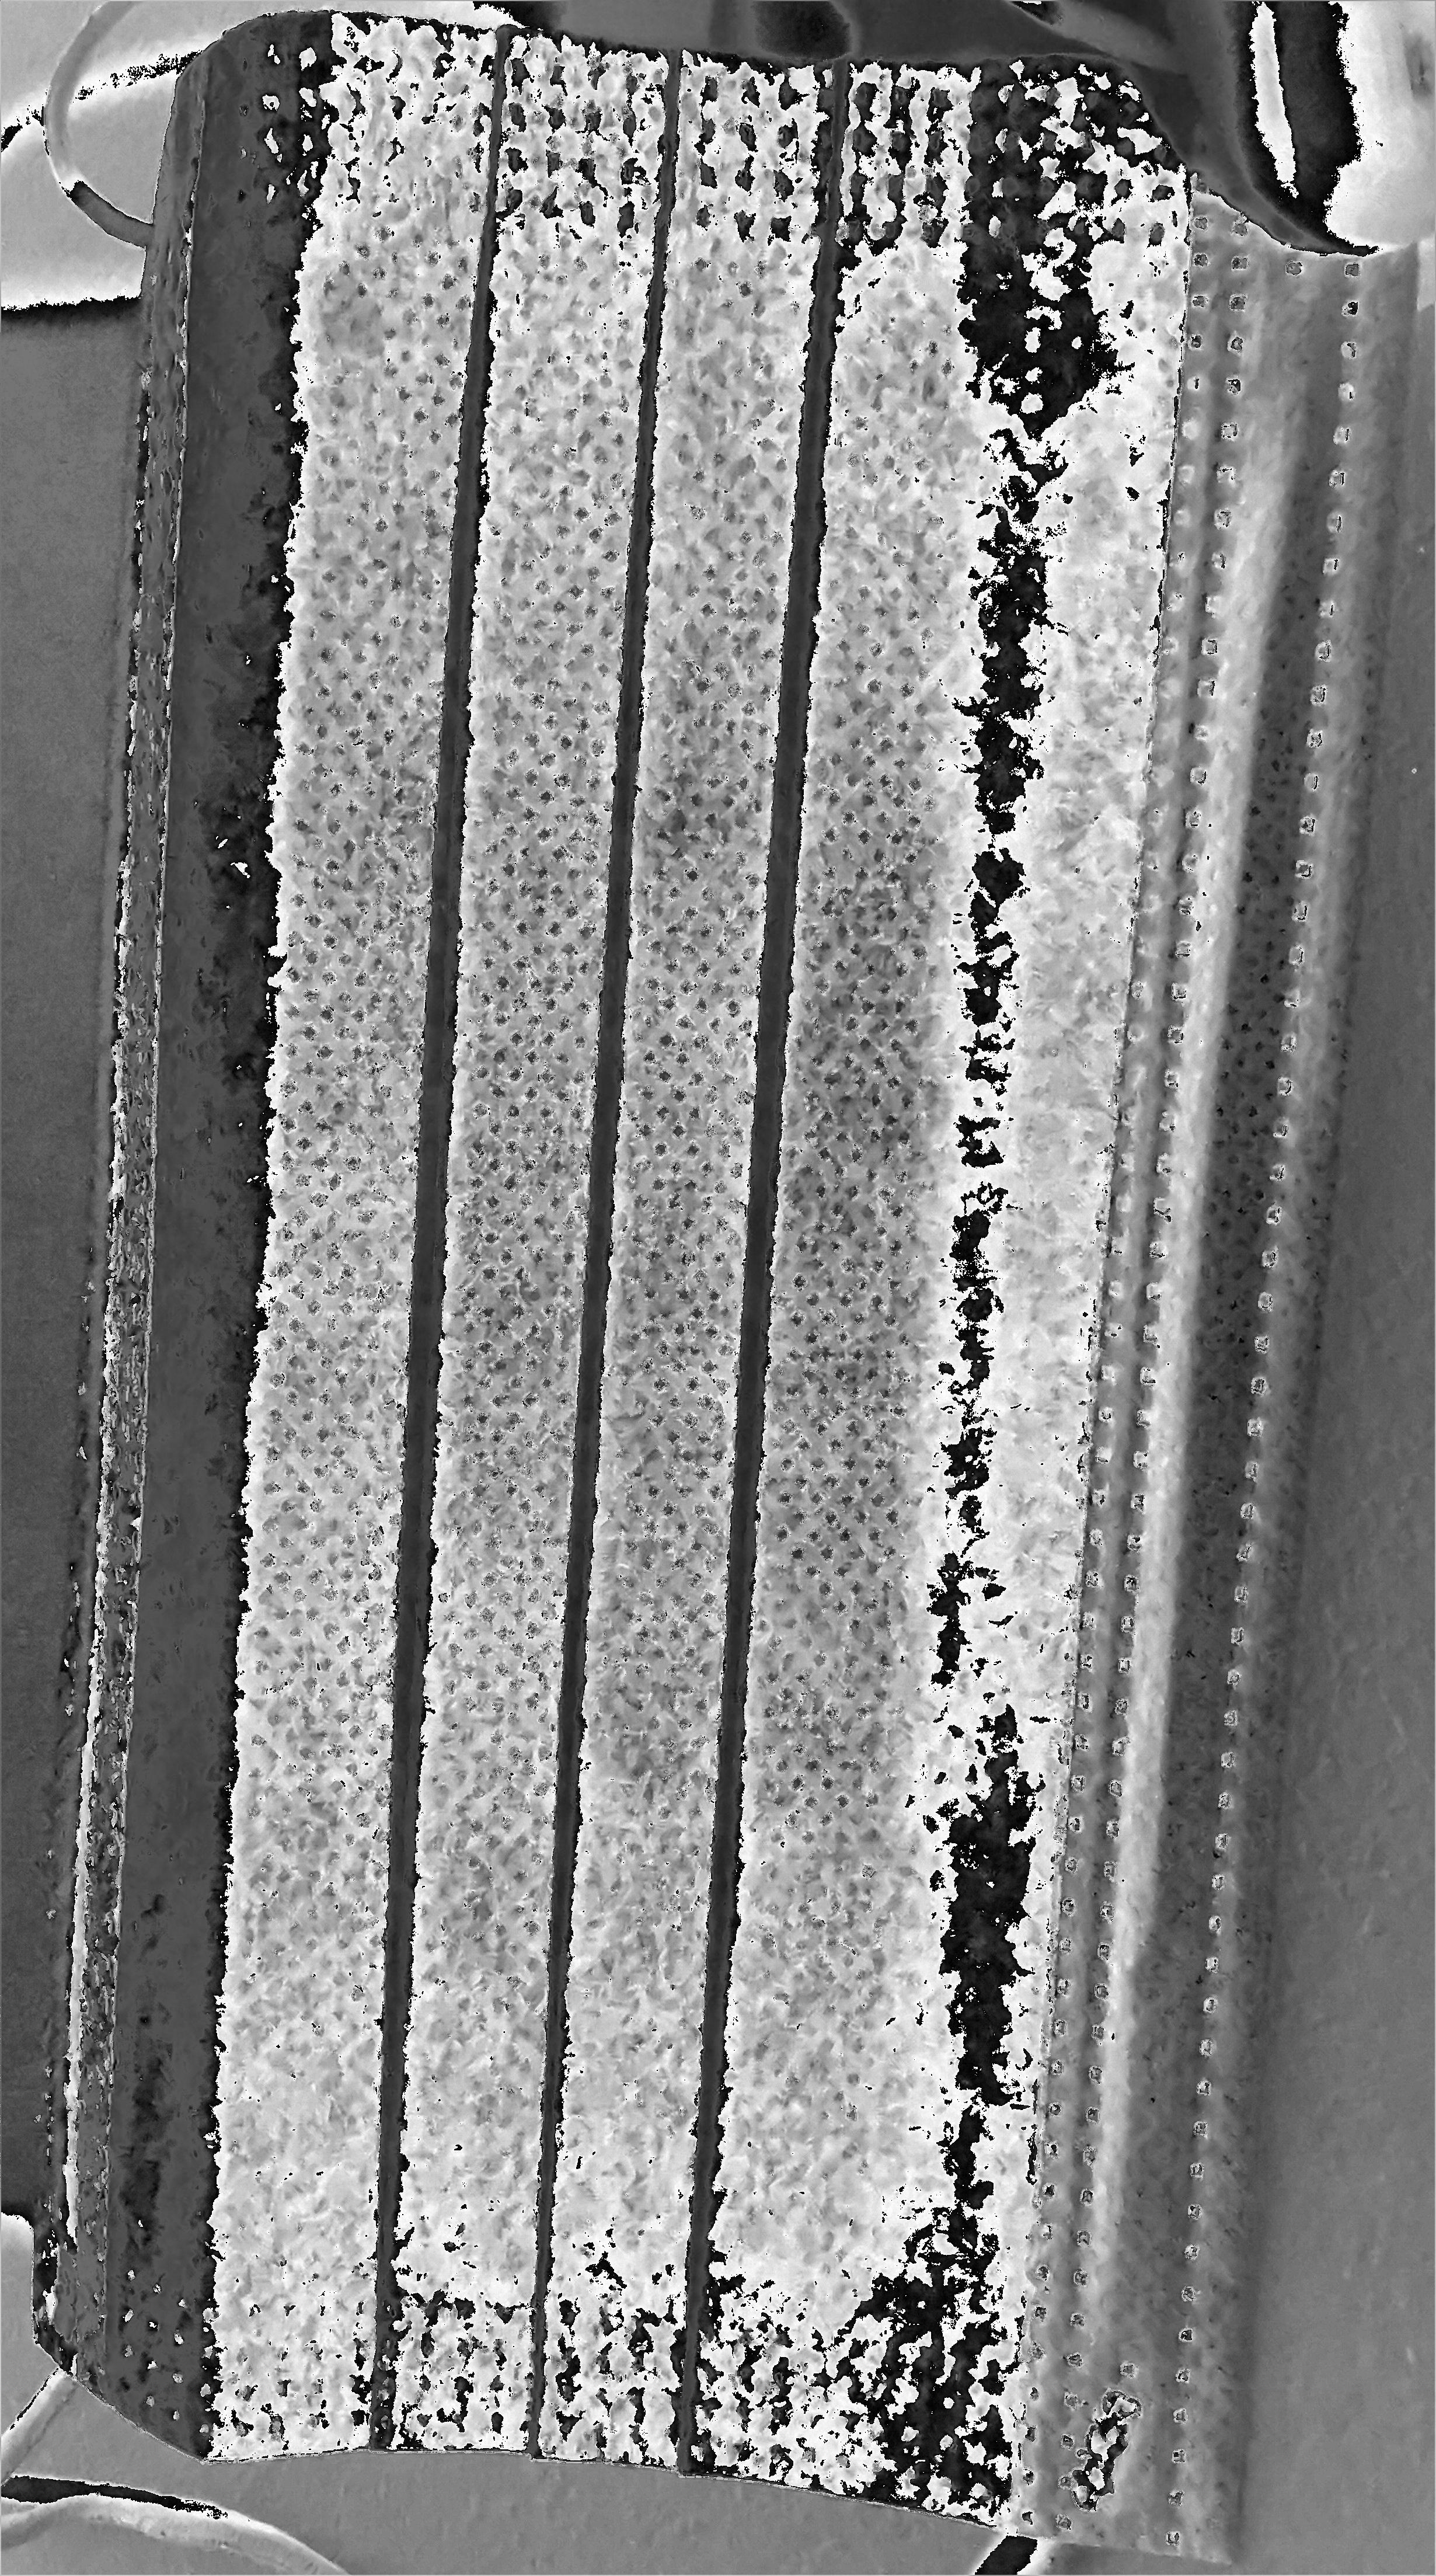Low GSM: (218, 285, 1146, 2297)
Undefined Area: (1045, 0, 1431, 249)
